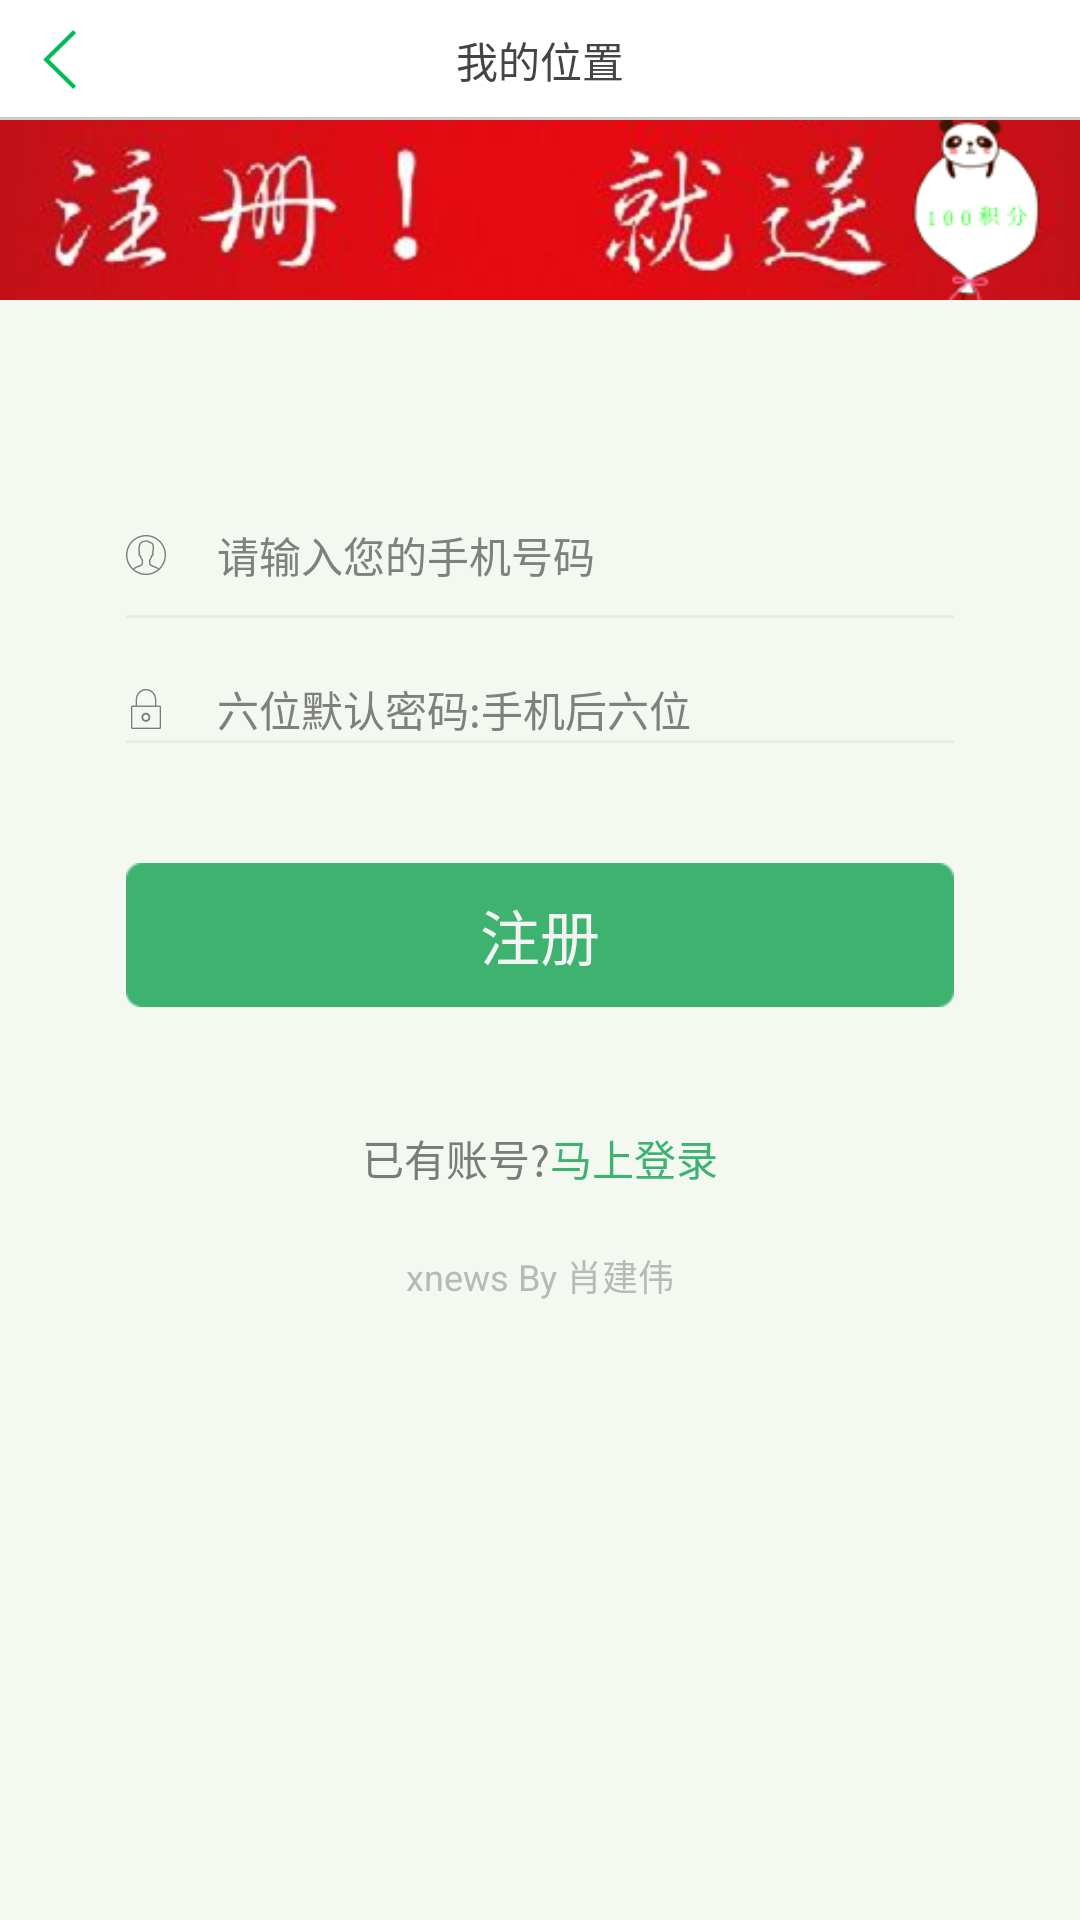

Where to tap for icons on this 1080 × 1920 app screen, as point (x, y):
back left: point (60, 60)
login lock: point (146, 709)
login profile: point (146, 555)
